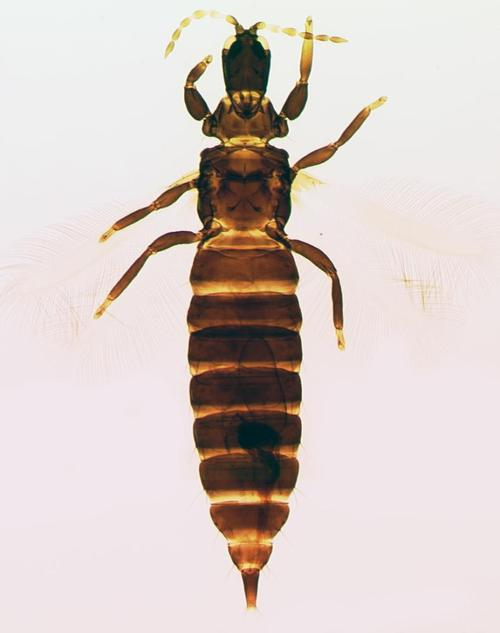Phlaeothripidae: (5, 14, 500, 621)
